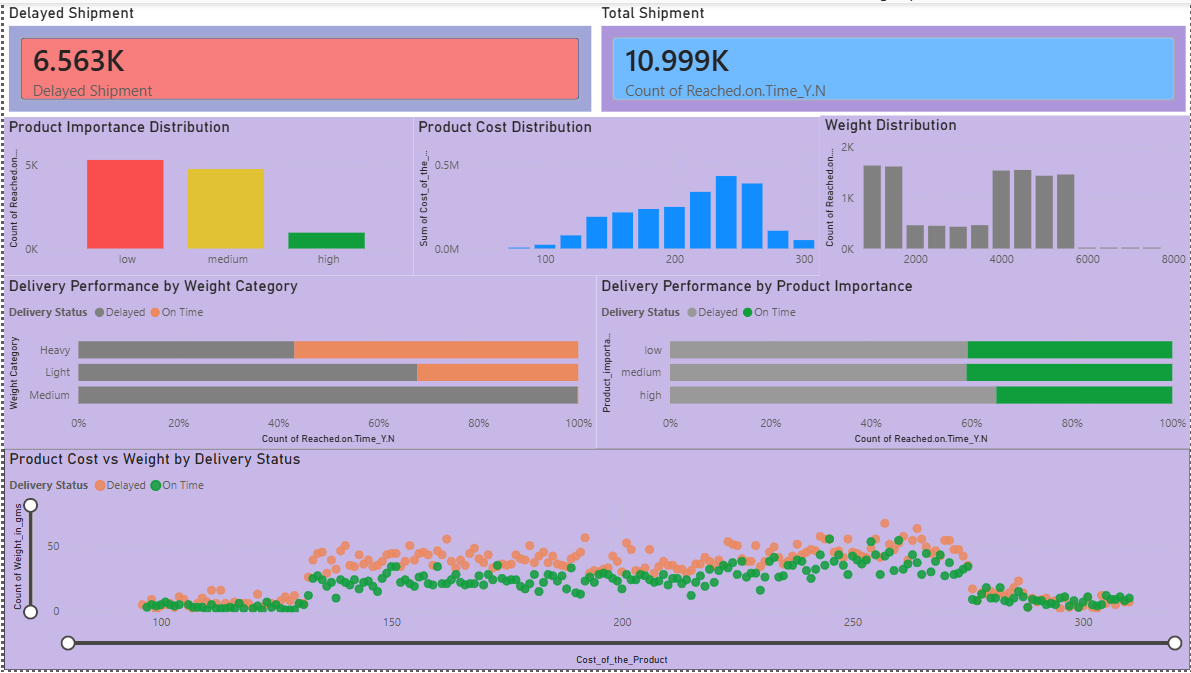

What the dashboard file says about the page in this screenshot:
{"tool":"powerbi","page":{"name":"Product Analysis","canvas":[1280,720],"ordinal":4},"visuals":[{"type":"cardVisual","title":"Total Shipment","fields":{"Data":["CountNonNull(Train.Reached.on.Time_Y.N)"]},"box":[639.6,0,641.2,123.1],"z":0},{"type":"cardVisual","title":"Delayed Shipment","fields":{"Data":["Train.Delayed Shipment"]},"box":[0,0,639.6,123.1],"z":1000},{"type":"clusteredColumnChart","title":"Product Importance Distribution","fields":{"Category":["Train.Product_importance"],"Y":["CountNonNull(Train.Reached.on.Time_Y.N)"]},"box":[0,123.1,442,171.6],"z":2000},{"type":"hundredPercentStackedBarChart","title":"Delivery Performance by Product Importance","fields":{"Category":["Train.Product_importance"],"Y":["CountNonNull(Train.Reached.on.Time_Y.N)"],"Series":["Train.Delivery Status"]},"box":[639.6,294.7,641.2,186.2],"z":3000},{"type":"clusteredColumnChart","title":"Product Cost Distribution","fields":{"Category":["Train.Cost_of_the_Product (bins)"],"Y":["Sum(Train.Cost_of_the_Product)"]},"box":[442,123.1,438.8,171.6],"z":4000},{"type":"scatterChart","title":"Product Cost vs Weight by Delivery Status","fields":{"X":["Train.Cost_of_the_Product"],"Y":["CountNonNull(Train.Weight_in_gms)"],"Series":["Train.Delivery Status"]},"box":[0,480.9,1280.8,239.6],"z":5000},{"type":"clusteredColumnChart","title":"Weight Distribution","fields":{"Category":["Train.Weight_in_gms (bins)"],"Y":["CountNonNull(Train.Reached.on.Time_Y.N)"]},"box":[880.9,121.4,399.9,173.3],"z":6000},{"type":"hundredPercentStackedBarChart","title":"Delivery Performance by Weight Category","fields":{"Category":["Train.Weight Category"],"Series":["Train.Delivery Status"],"Y":["CountNonNull(Train.Reached.on.Time_Y.N)"]},"box":[0,294.7,639.6,186.2],"z":7000}]}

Visuals, with their boxes in screenshot pixels (x1, y1, x2, y2), scaled from the page's 1280x720 canvas onto the 1191x673 screenshot:
"Total Shipment" cardVisual: 595 0 1190 115
"Delayed Shipment" cardVisual: 0 0 595 115
"Product Importance Distribution" clusteredColumnChart: 0 115 411 275
"Delivery Performance by Product Importance" hundredPercentStackedBarChart: 595 275 1190 450
"Product Cost Distribution" clusteredColumnChart: 411 115 820 275
"Product Cost vs Weight by Delivery Status" scatterChart: 0 450 1190 672
"Weight Distribution" clusteredColumnChart: 820 113 1190 275
"Delivery Performance by Weight Category" hundredPercentStackedBarChart: 0 275 595 450
